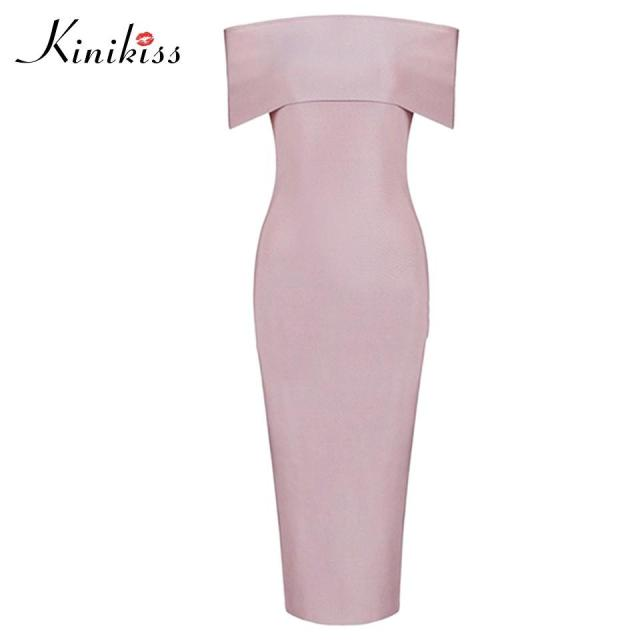Dress: (220, 14, 466, 625)
